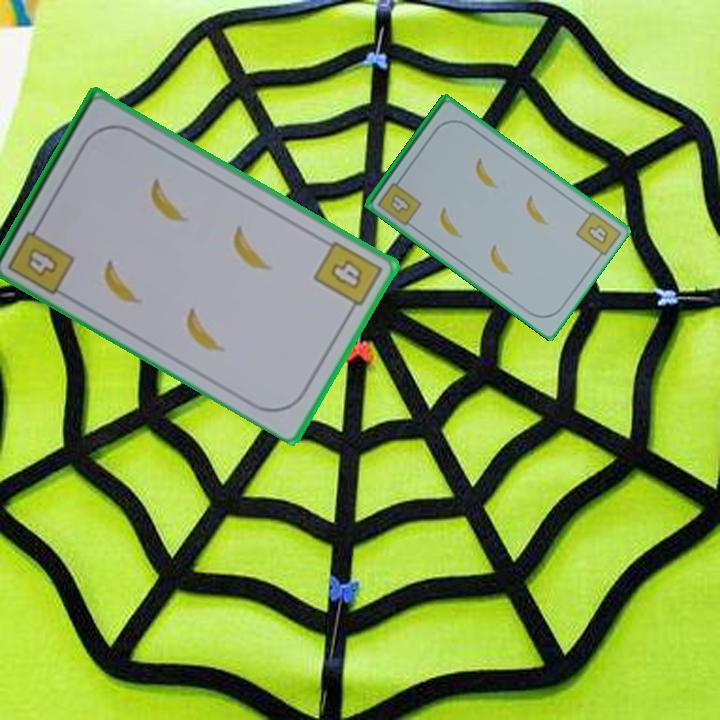4b: (309, 236, 385, 317), (4, 216, 77, 297), (374, 173, 424, 228), (584, 221, 612, 247)
